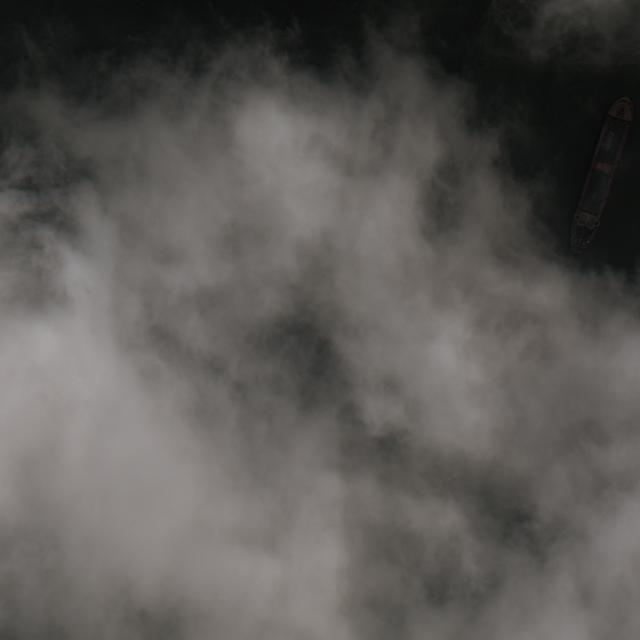Cargo: (563, 92, 639, 259)
